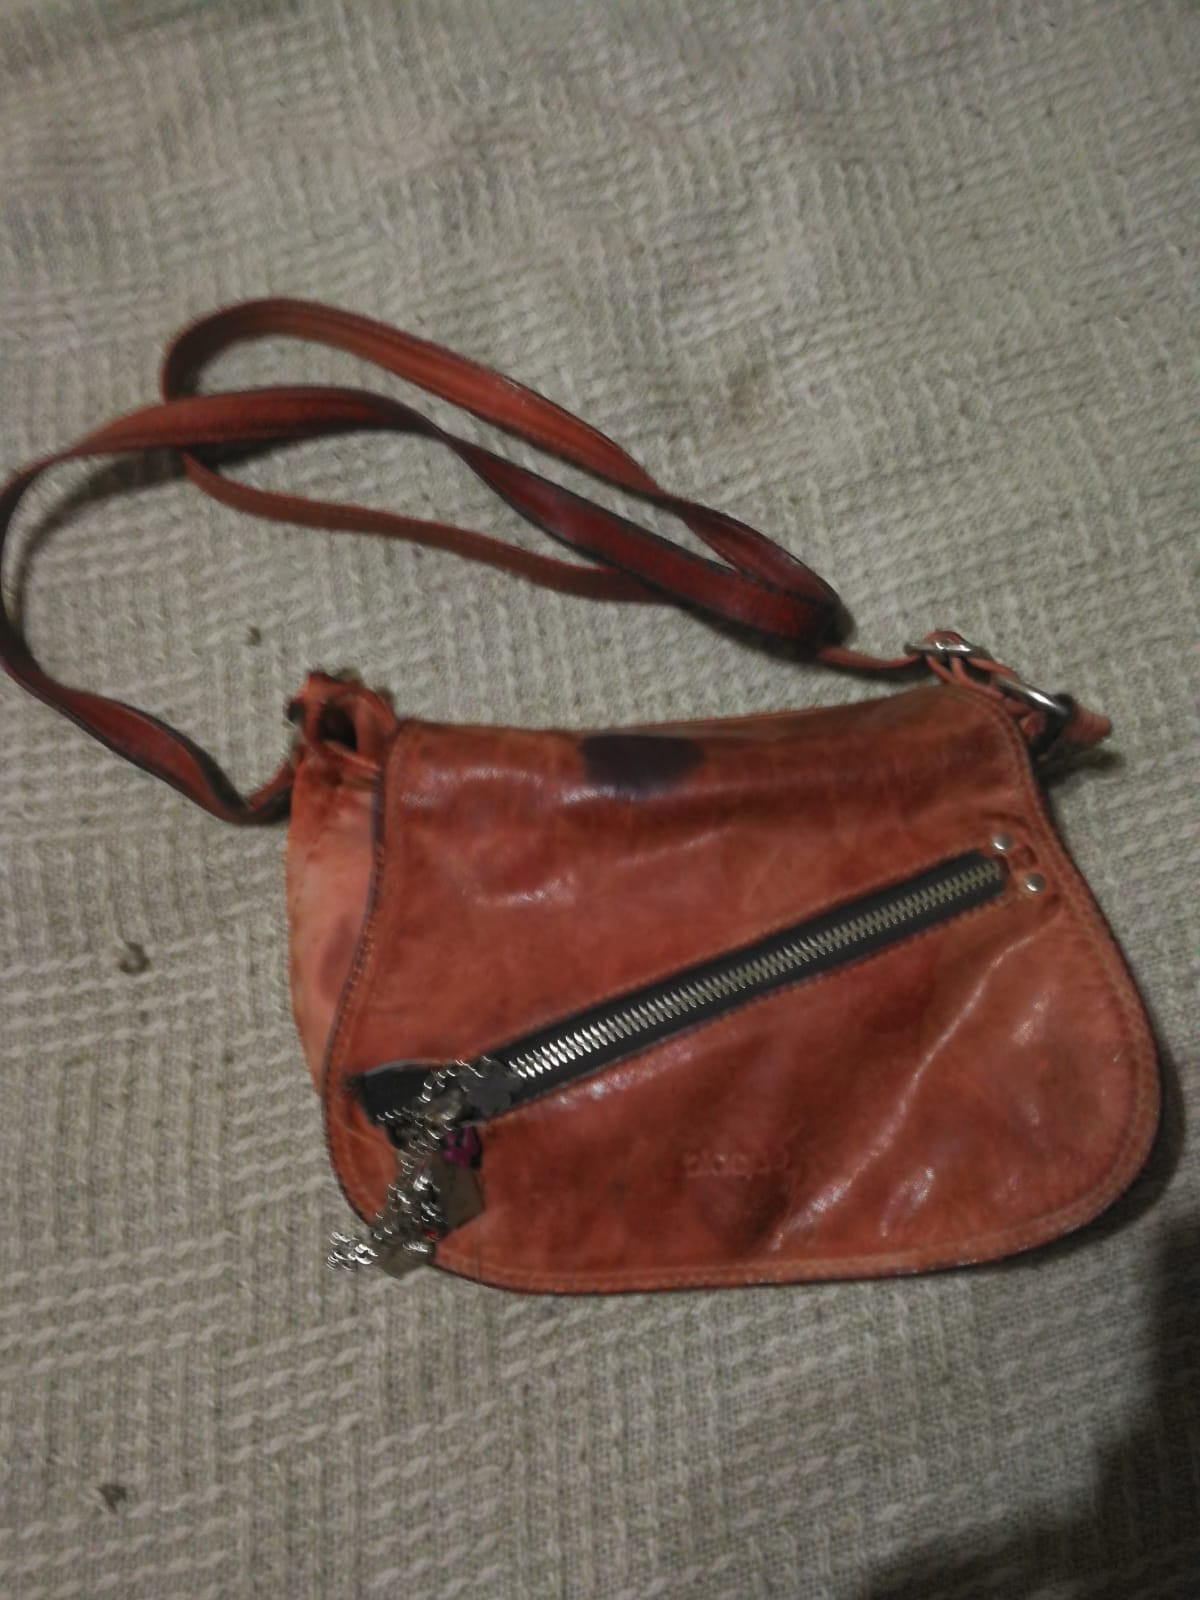cartera: (30, 380, 1172, 1283)
cuero: (449, 803, 635, 991)
